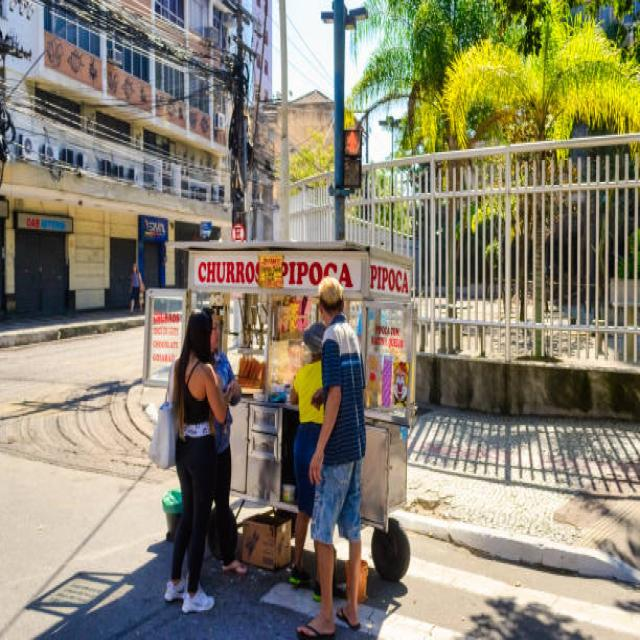Emperan: (135, 231, 430, 639)
